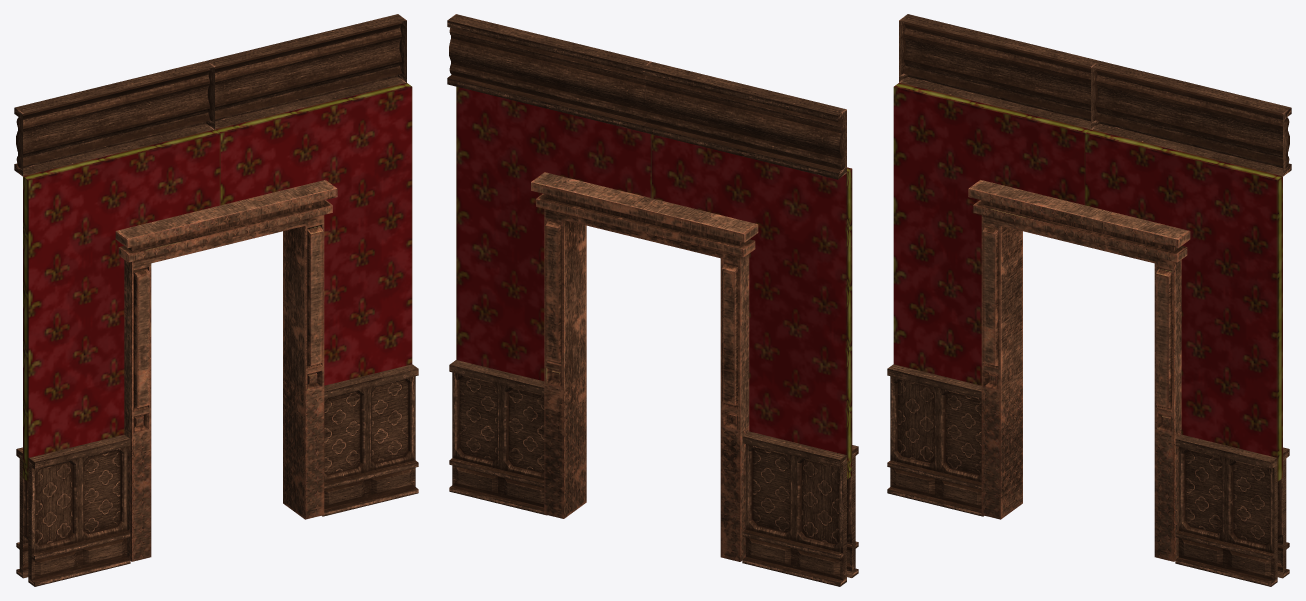
Rendered from door_frame1.fbx.
3 views of the same model, side by side, from view 1: azimuth 30°, elevation 25°; view 2: azimuth 150°, elevation 25°; view 3: azimuth 330°, elevation 25° (orthographic).
Visible parts, largest first — view 1: door_frame1; view 2: door_frame1; view 3: door_frame1.
Boxes of the visible parts, x1,y1,x2,y2 form: door_frame1: (14,14,418,586); door_frame1: (447,14,858,586); door_frame1: (887,14,1291,586).
Bounding box in the file's own units: 400 × 463 × 56.2.
Materials: 3 (3 with a texture image).
